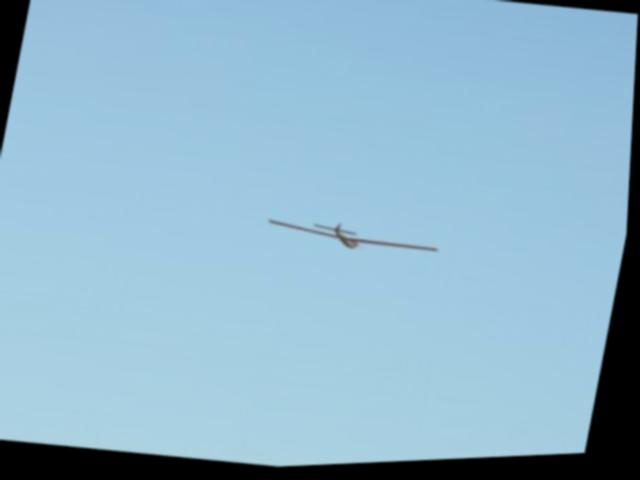iha: (257, 204, 450, 272)
